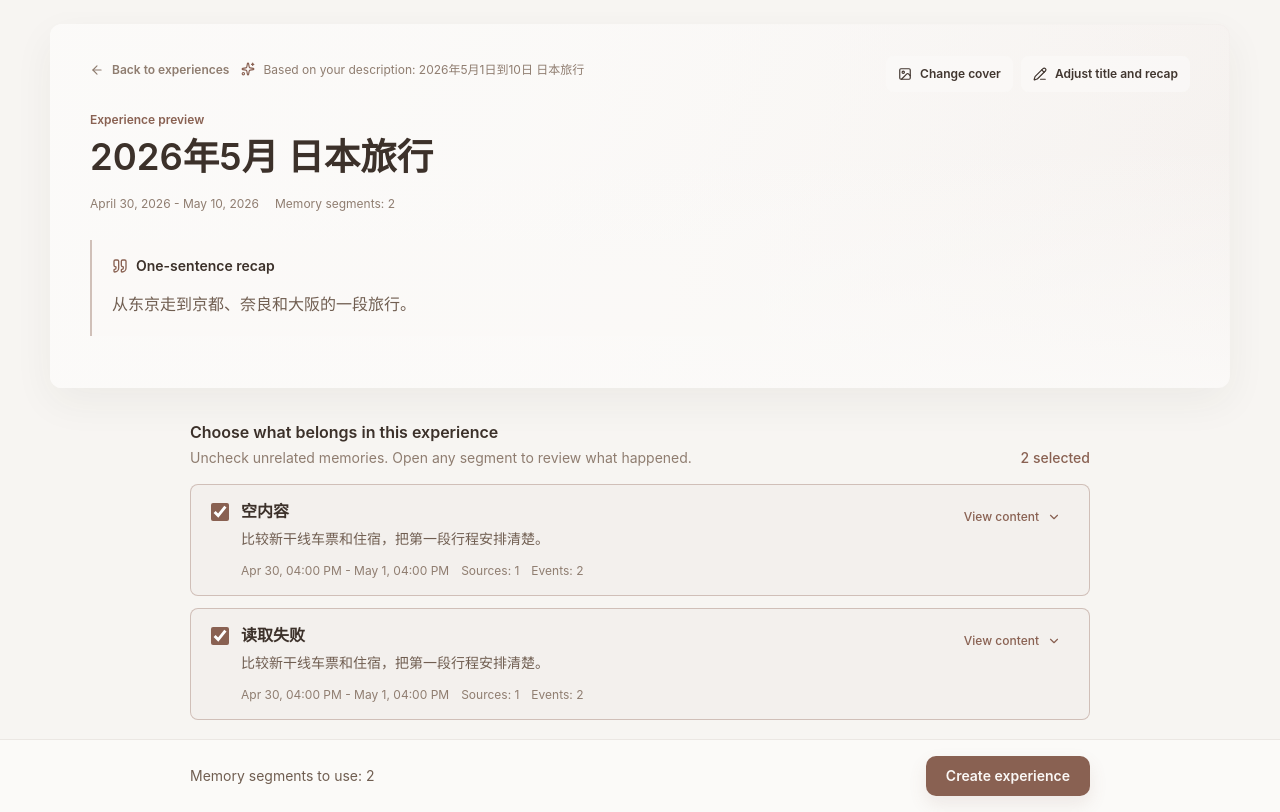
Scenario: MemoryEpisodesPage › shows empty and failure states without exposing evidence identifiers
Check: the text "No readable event content is available for this segment." is not shown
Check: the text "Could not load this segment. Try again." is not shown
Click the button "View content" in the row of "空内容": (1012, 517) [956,501,1069,533]
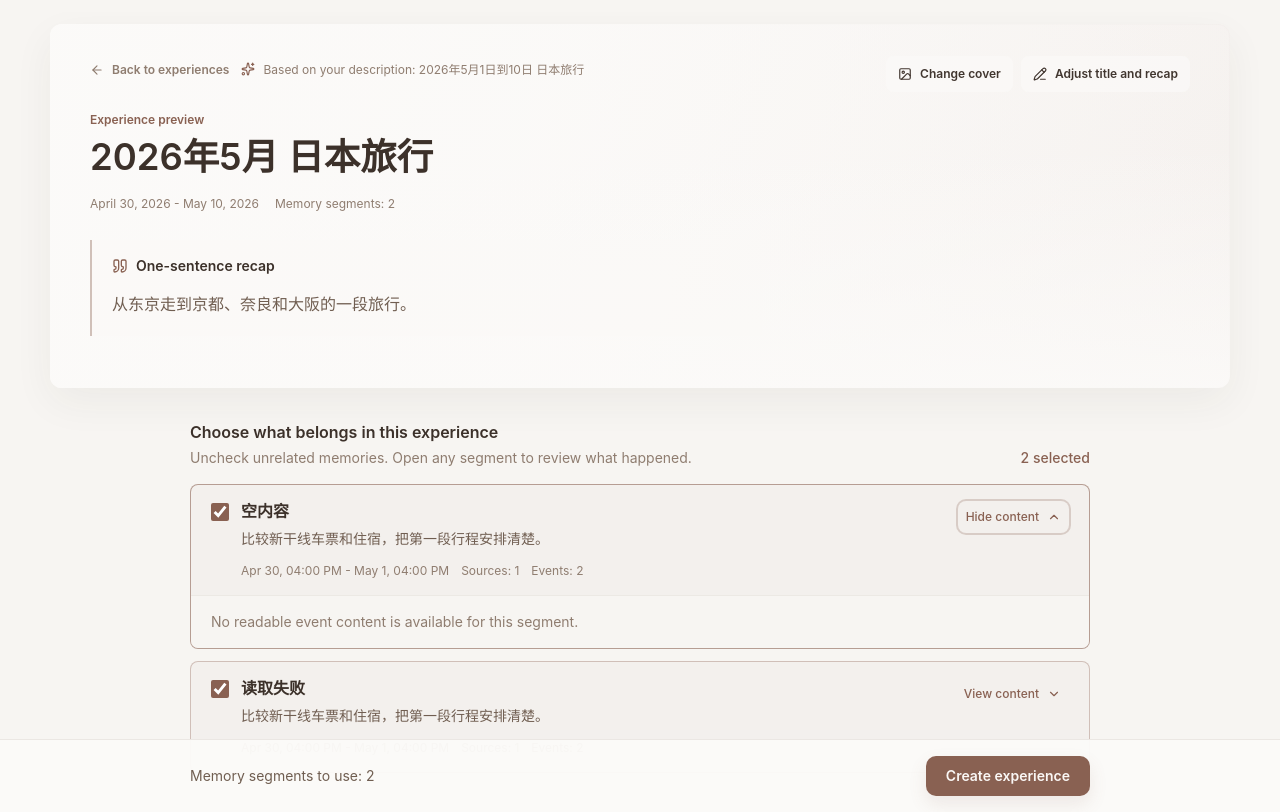
Check: the text "No readable event content is available for this segment." is shown, box [211,613,578,630]
Click the button "View content": (1012, 694) [956,678,1069,710]
(page scrolled)
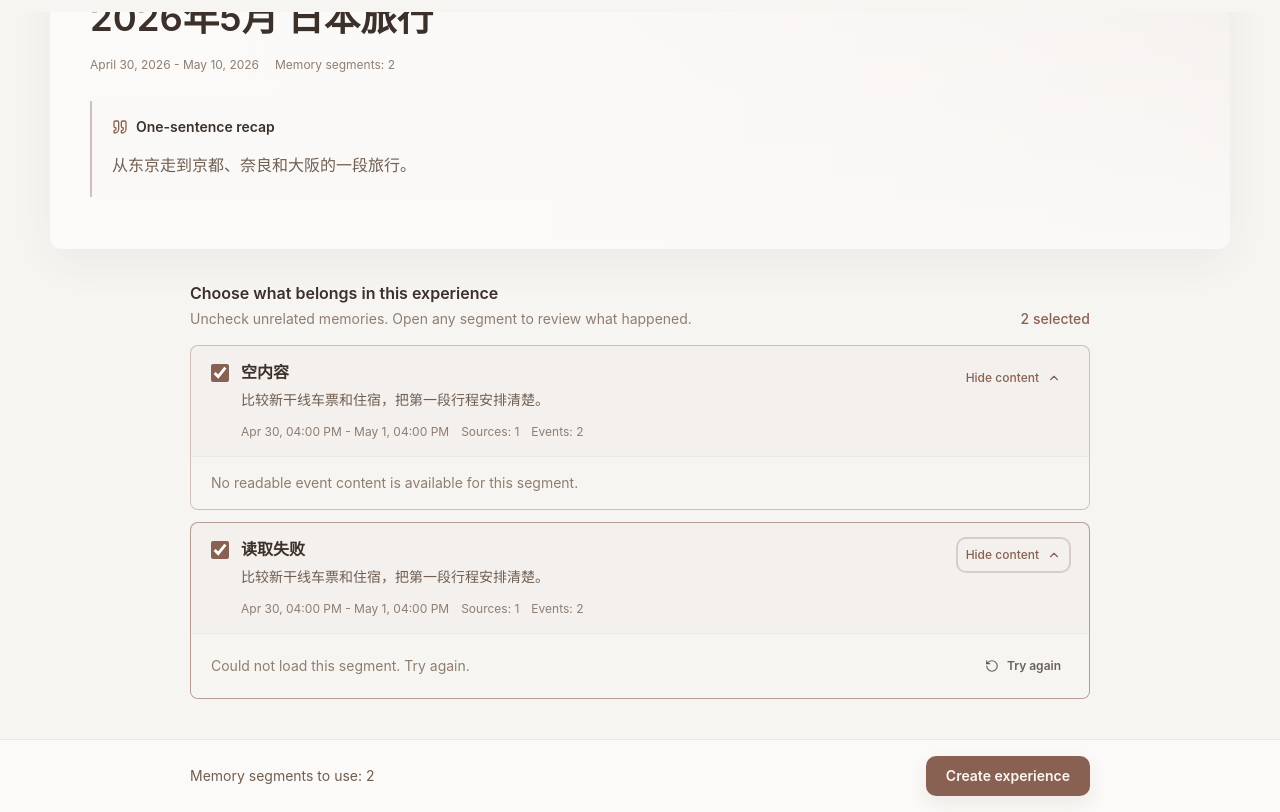
Check: the text "Could not load this segment. Try again." is shown, box [211,656,470,676]
